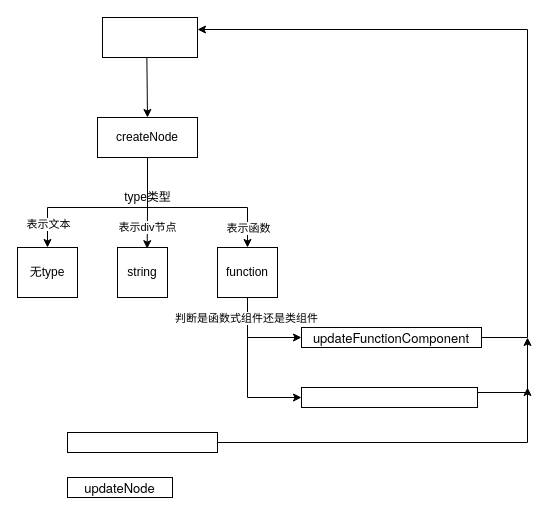
Some shapes in this 553 by 515 pixel diagram are drawn without their labels. Each missing label, with the centre of its shape:
reconcileChildren: the point at 142,442
render: the point at 150,37
updateClassComponent: the point at 389,397
